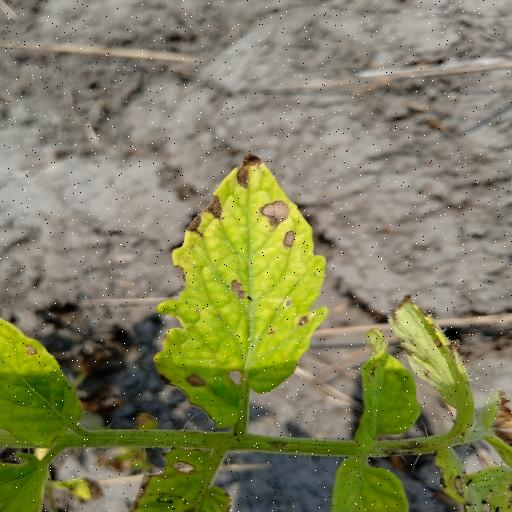Tomato_Brown_Spots: (149, 149, 332, 431), (0, 317, 90, 450), (352, 330, 421, 445)
